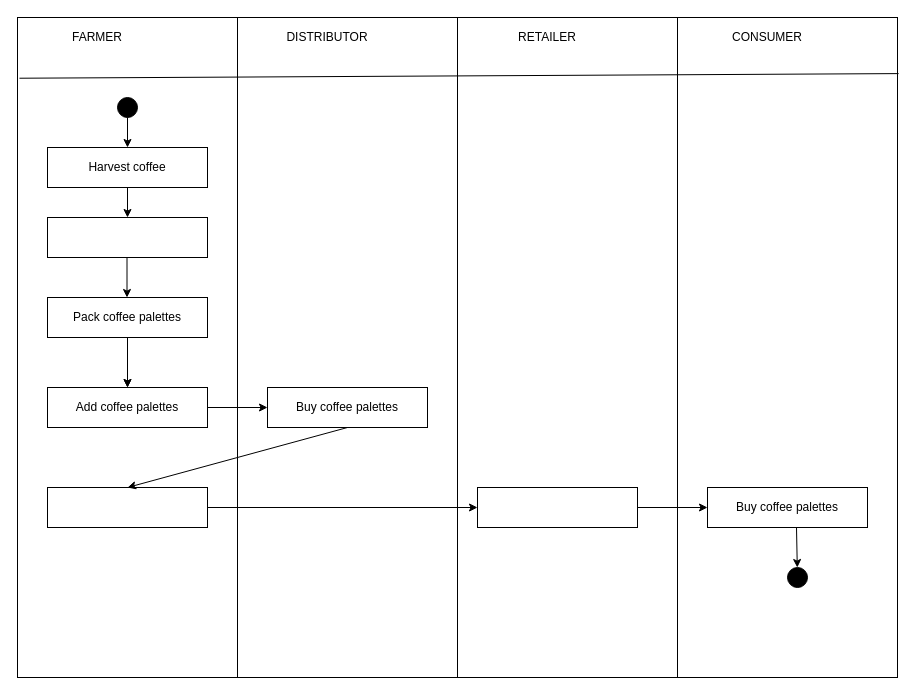
The diagram is 918 pixels wide and 695 high, and some of its shapes have lost their labels. The shapes that lost their labels are listed below. From the top down, each one's centre as x and y in pixels, then its label:
At (127,237): "Process coffee".
At (127,507): "Ship coffee palettes".
At (557,507): "Receive coffee palettes".
